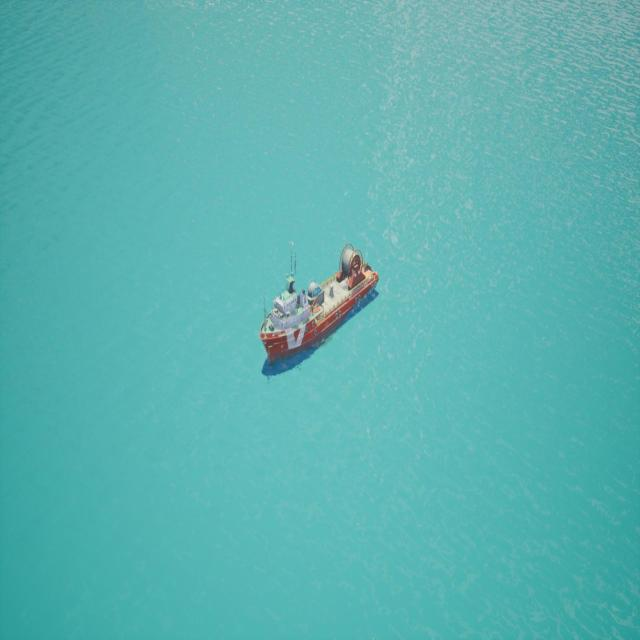tug boat: (254, 230, 397, 379)
